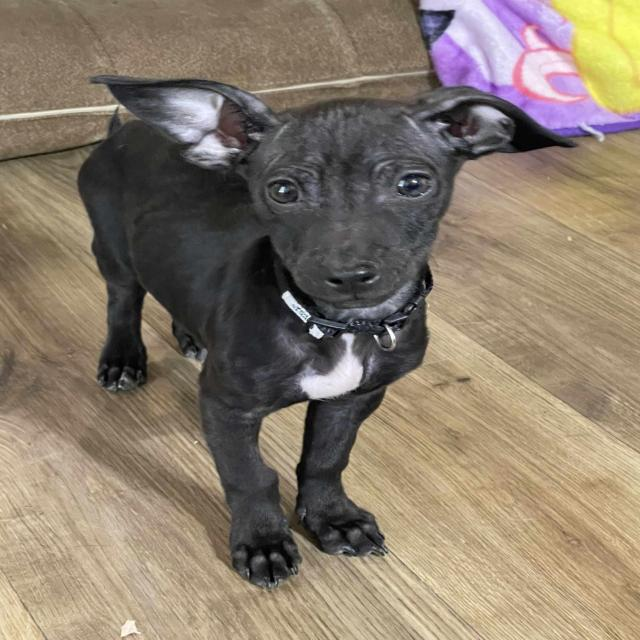chihuahua_dog: (87, 73, 585, 319)
